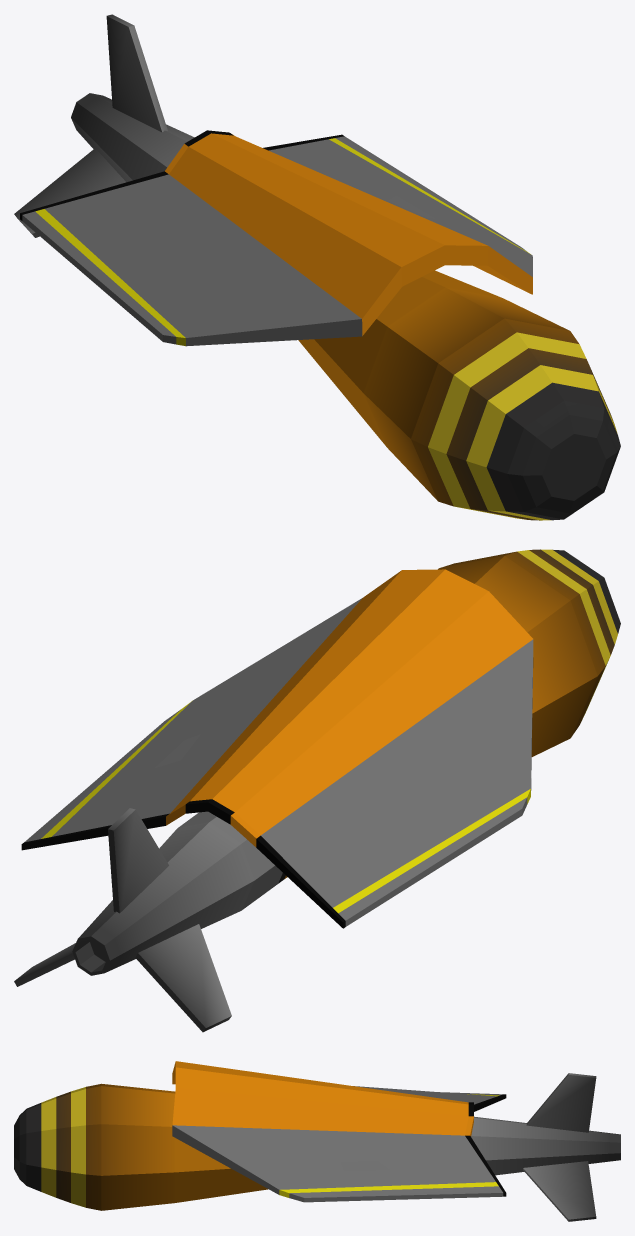
File: EnemyBomber.fbx
3 renders of one model, top to bottom at view 1: azimuth 30°, elevation 25°; view 2: azimuth 150°, elevation 25°; view 3: azimuth 270°, elevation 25°, orthographic. The views are drawn at different scales.
Parts seen in each view (by area): view 1: EnemyCharge; view 2: EnemyCharge; view 3: EnemyCharge.
Boxes of the visible parts, bbox=[...] form: EnemyCharge: bbox=[14, 14, 620, 520]; EnemyCharge: bbox=[14, 549, 620, 1032]; EnemyCharge: bbox=[14, 1061, 620, 1221].
Bounding box in the file's own units: 79.13 × 47.48 × 185.
